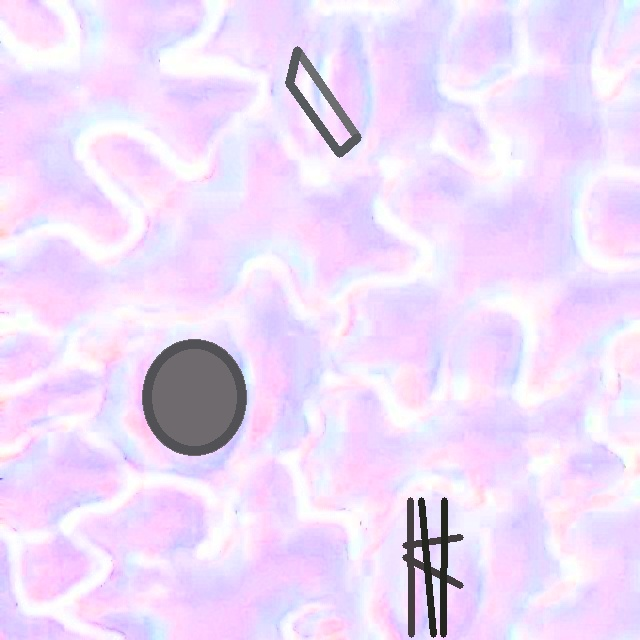open: (141, 339, 246, 456), (402, 497, 463, 637), (285, 46, 361, 157)
